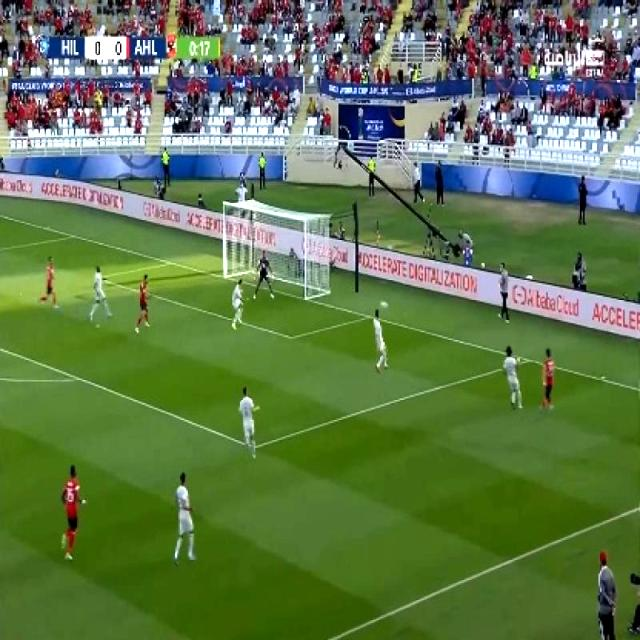bigarea_top_outter: (63, 226, 82, 244)
bottom_arc_area_intersection: (64, 364, 88, 390)
smallarea_bottom_inner: (282, 324, 300, 348)
smallarea_bottom_outter: (358, 304, 376, 326)
smallarea_top_outter: (158, 252, 177, 272)
